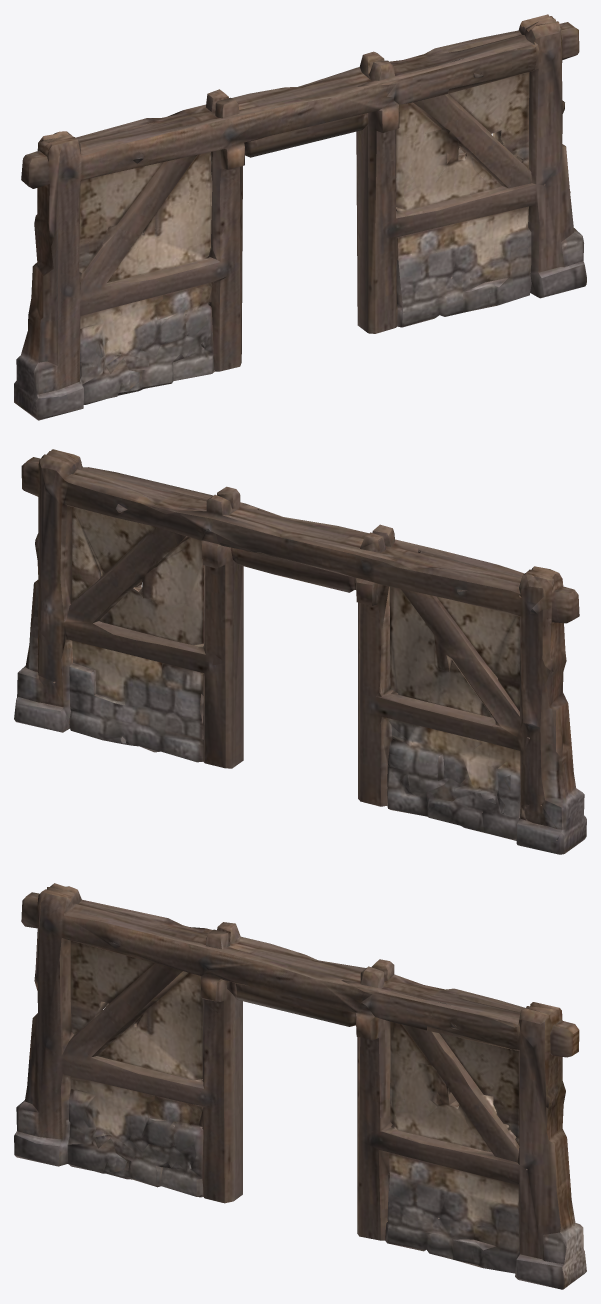
3 renders of one model, top to bottom at view 1: azimuth 30°, elevation 25°; view 2: azimuth 150°, elevation 25°; view 3: azimuth 330°, elevation 25°, orthographic.
Parts seen in each view (by area): view 1: geometry_0; view 2: geometry_0; view 3: geometry_0.
Part boxes in pixels (left/top/right/bottom): geometry_0: left=14, top=14, right=586, bottom=420; geometry_0: left=14, top=449, right=586, bottom=854; geometry_0: left=14, top=883, right=586, bottom=1289.
Bounding box in the file's own units: 3 × 1.4 × 0.2721.
Materials: 1 (1 with a texture image).
